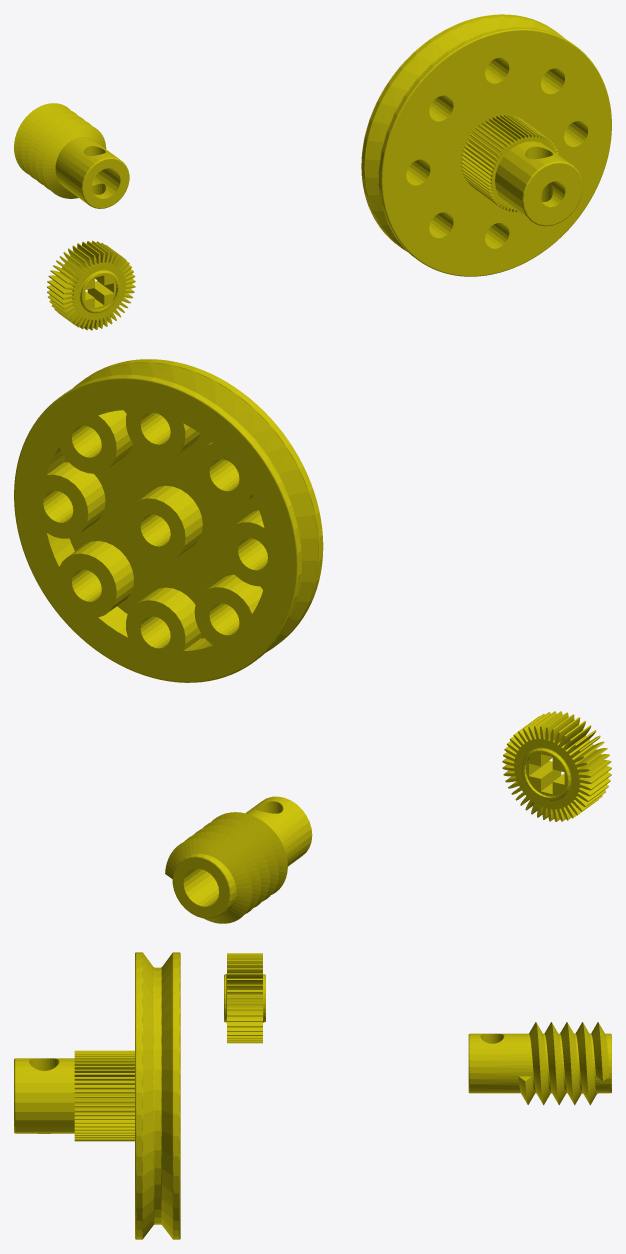
The model's file is 0_user123.glb.
The picture shows the model from 3 angles, top to bottom: view 1: azimuth 30°, elevation 25°; view 2: azimuth 150°, elevation 25°; view 3: azimuth 270°, elevation 25°; orthographic projection. The views are drawn at different scales.
Visible parts, largest first — view 1: BanhRang_RongRoc, BanhVit, BanhRang_LoChuThap_Nho; view 2: BanhRang_RongRoc, BanhVit, BanhRang_LoChuThap_Nho; view 3: BanhRang_RongRoc, BanhVit, BanhRang_LoChuThap_Nho.
Part boxes in pixels (x1,y1,x2,y2): BanhRang_RongRoc: (361, 14, 611, 276); BanhVit: (14, 103, 129, 208); BanhRang_LoChuThap_Nho: (47, 240, 135, 330); BanhRang_RongRoc: (14, 359, 323, 682); BanhVit: (165, 796, 312, 923); BanhRang_LoChuThap_Nho: (502, 711, 611, 821); BanhRang_RongRoc: (14, 952, 180, 1239); BanhVit: (468, 1022, 611, 1105); BanhRang_LoChuThap_Nho: (224, 953, 265, 1043).
Size of the model in its own units: 2.14 by 0.9738 by 2.02.
